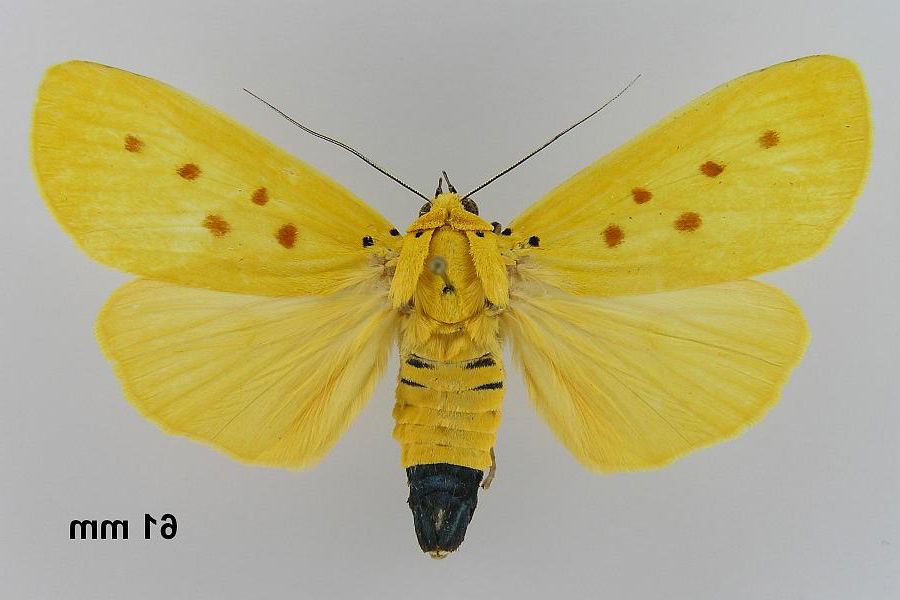Agape chloropyga: (24, 49, 872, 556)
moth: (22, 51, 870, 558)
